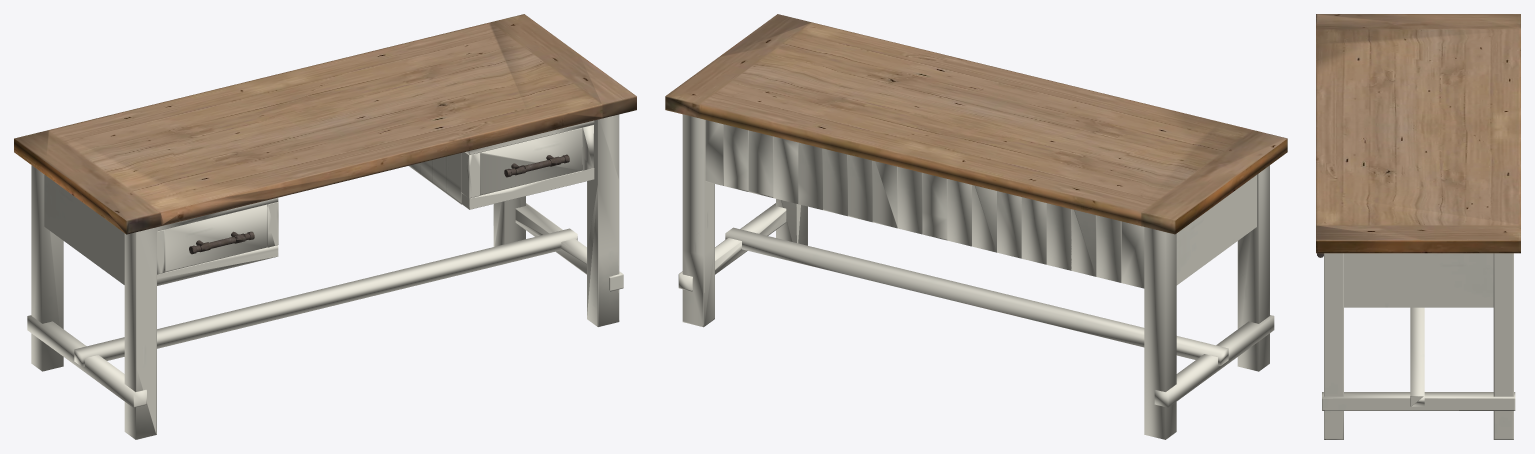
3 views of the same model, side by side, from view 1: azimuth 30°, elevation 25°; view 2: azimuth 150°, elevation 25°; view 3: azimuth 270°, elevation 25° (orthographic). The views are drawn at different scales.
Parts seen in each view (by area): view 1: RootNode; view 2: RootNode; view 3: RootNode.
Part boxes in pixels (x1,y1,x2,y2): RootNode: [14, 14, 636, 439]; RootNode: [665, 14, 1287, 439]; RootNode: [1316, 14, 1520, 439].
Bounding box in the file's own units: 1.8 × 0.7616 × 0.6885.
Materials: 1 (1 with a texture image).
